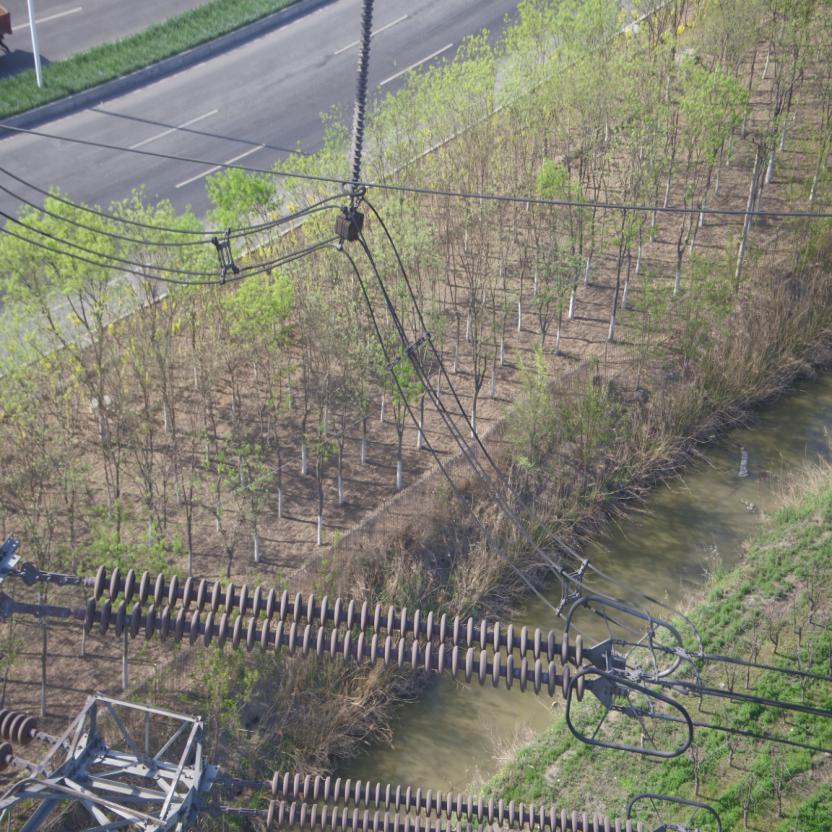insulator: (44, 561, 598, 704), (240, 766, 657, 830)
